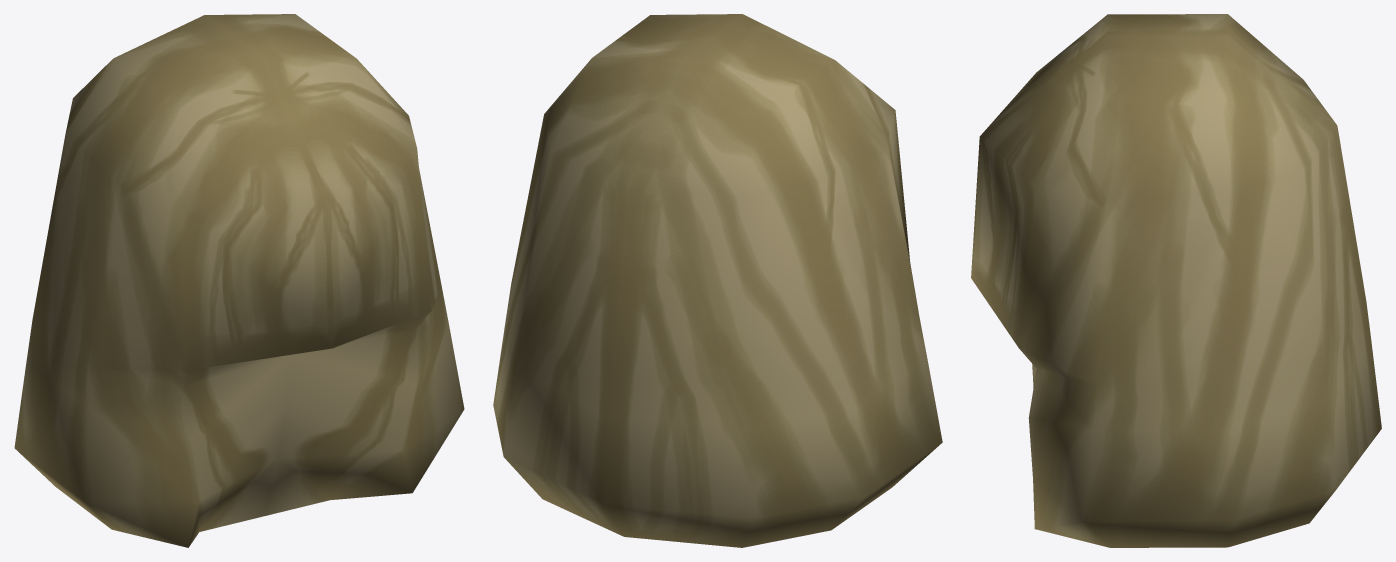
File: character_Head13.FBX
3 renders of one model, left to right at view 1: azimuth 30°, elevation 25°; view 2: azimuth 150°, elevation 25°; view 3: azimuth 270°, elevation 25°, orthographic.
Parts seen in each view (by area): view 1: Sphere126; view 2: Sphere126; view 3: Sphere126.
Part boxes in pixels (x1,y1,x2,y2): Sphere126: (14,14,464,547); Sphere126: (493,14,942,547); Sphere126: (971,14,1381,547).
Size of the model in its own units: 44.26 by 52.37 by 41.34.
